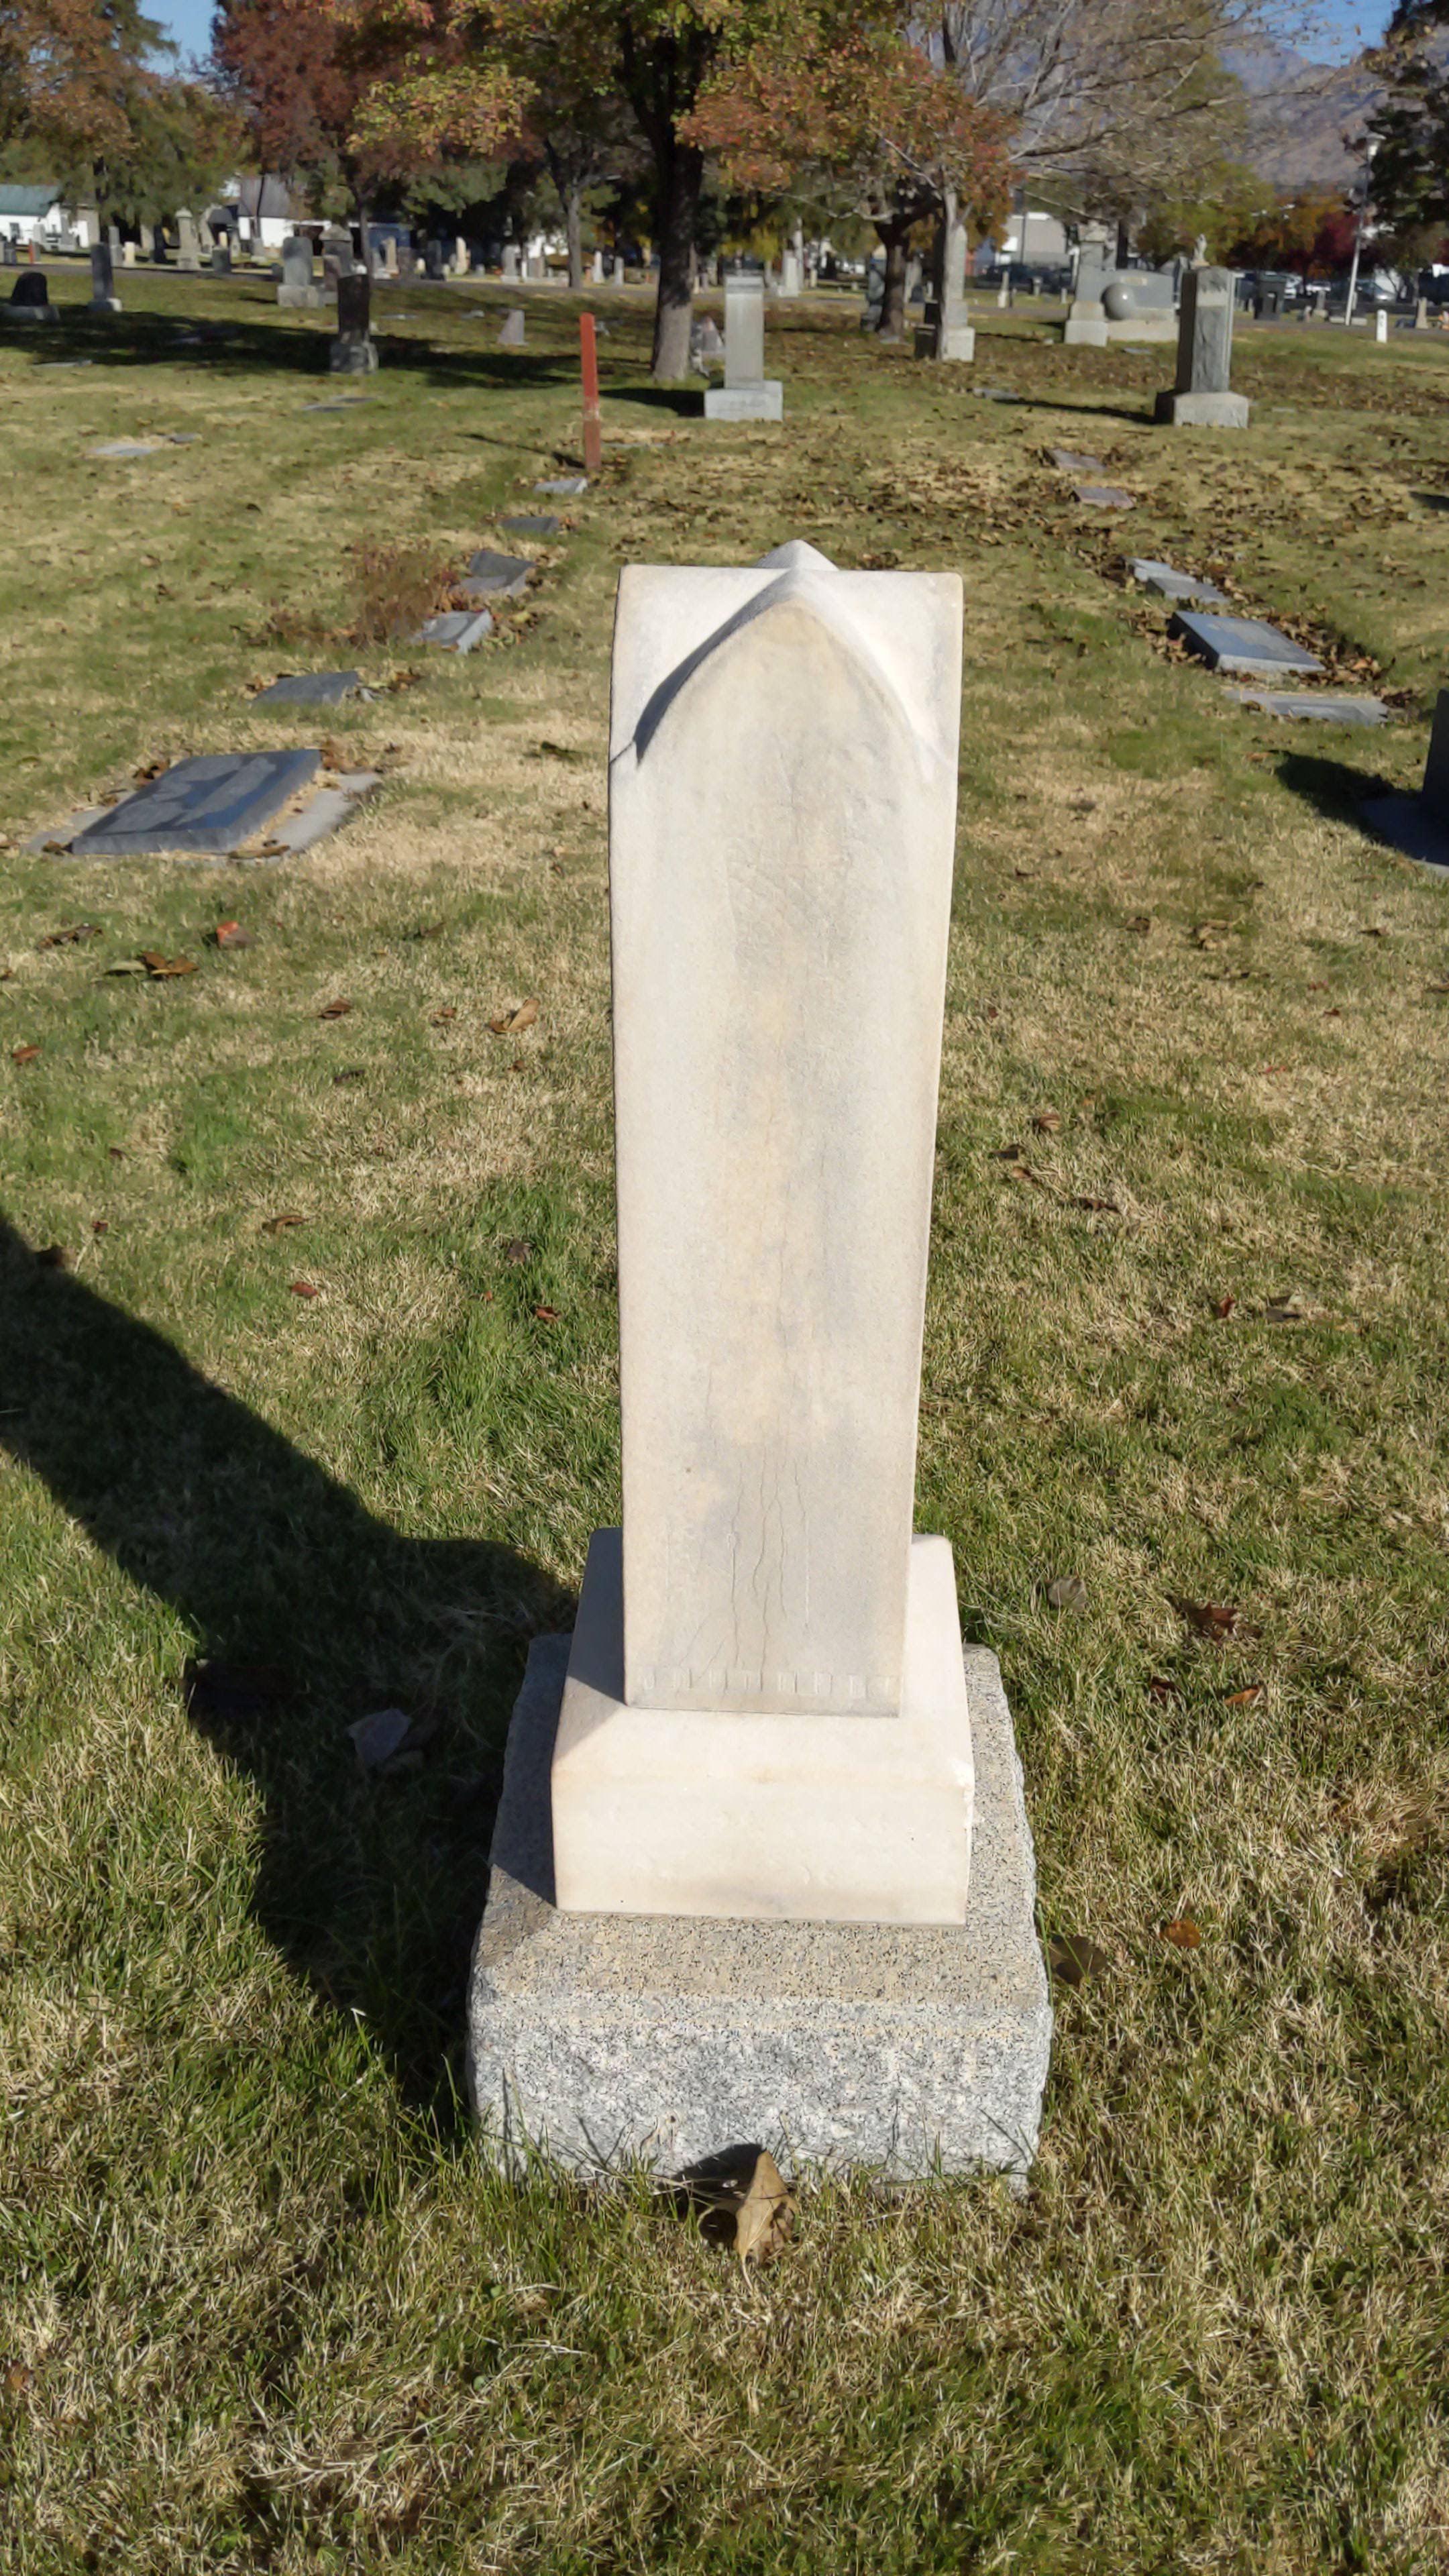obelisk: (550, 561, 978, 1928)
